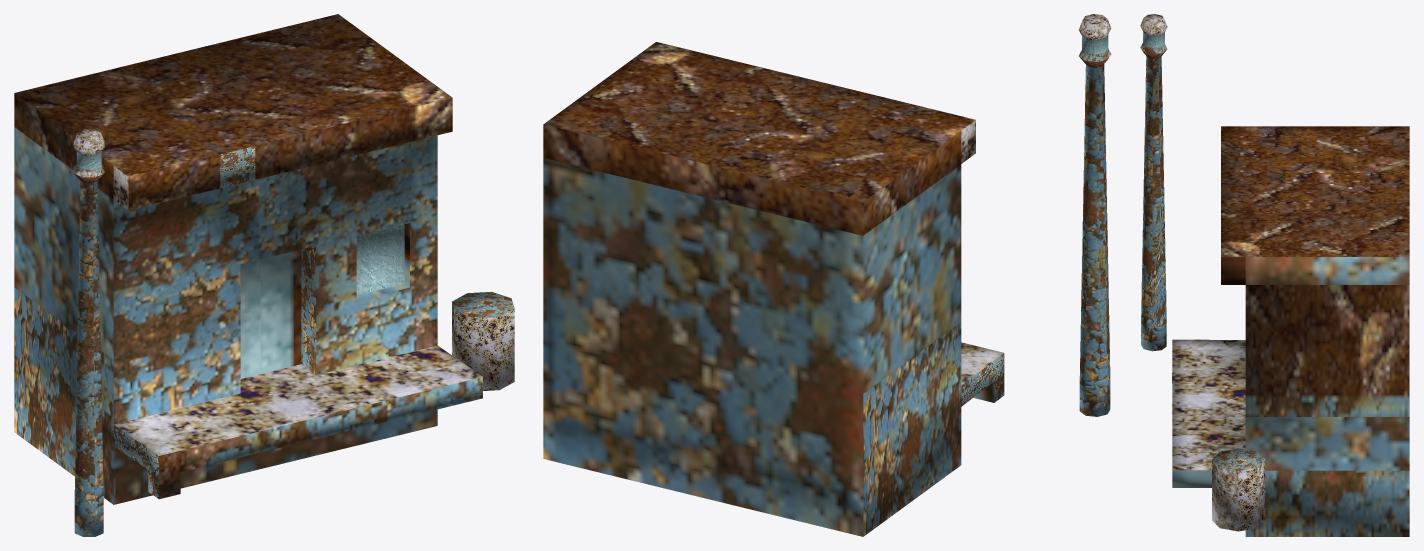
File: building1.fbx
3 views of the same model, side by side, from view 1: azimuth 30°, elevation 25°; view 2: azimuth 150°, elevation 25°; view 3: azimuth 270°, elevation 25° (orthographic). The views are drawn at different scales.
Visible parts, largest first — view 1: Cube, Cylinder, Cylinder.001; view 2: Cube, Cylinder; view 3: Cube, Cylinder, Cylinder.001.
Boxes of the visible parts, left/top/right/bottom form: Cube: left=14, top=14, right=482, bottom=504; Cylinder: left=73, top=129, right=104, bottom=536; Cylinder.001: left=452, top=292, right=514, bottom=390; Cube: left=543, top=42, right=1004, bottom=536; Cylinder: left=1078, top=14, right=1111, bottom=416; Cube: left=1172, top=126, right=1409, bottom=536; Cylinder: left=1140, top=14, right=1167, bottom=351; Cylinder.001: left=1212, top=448, right=1265, bottom=531.
Bounding box in the file's own units: 3389 × 2859 × 1964.
Materials: 4 (4 with a texture image).
